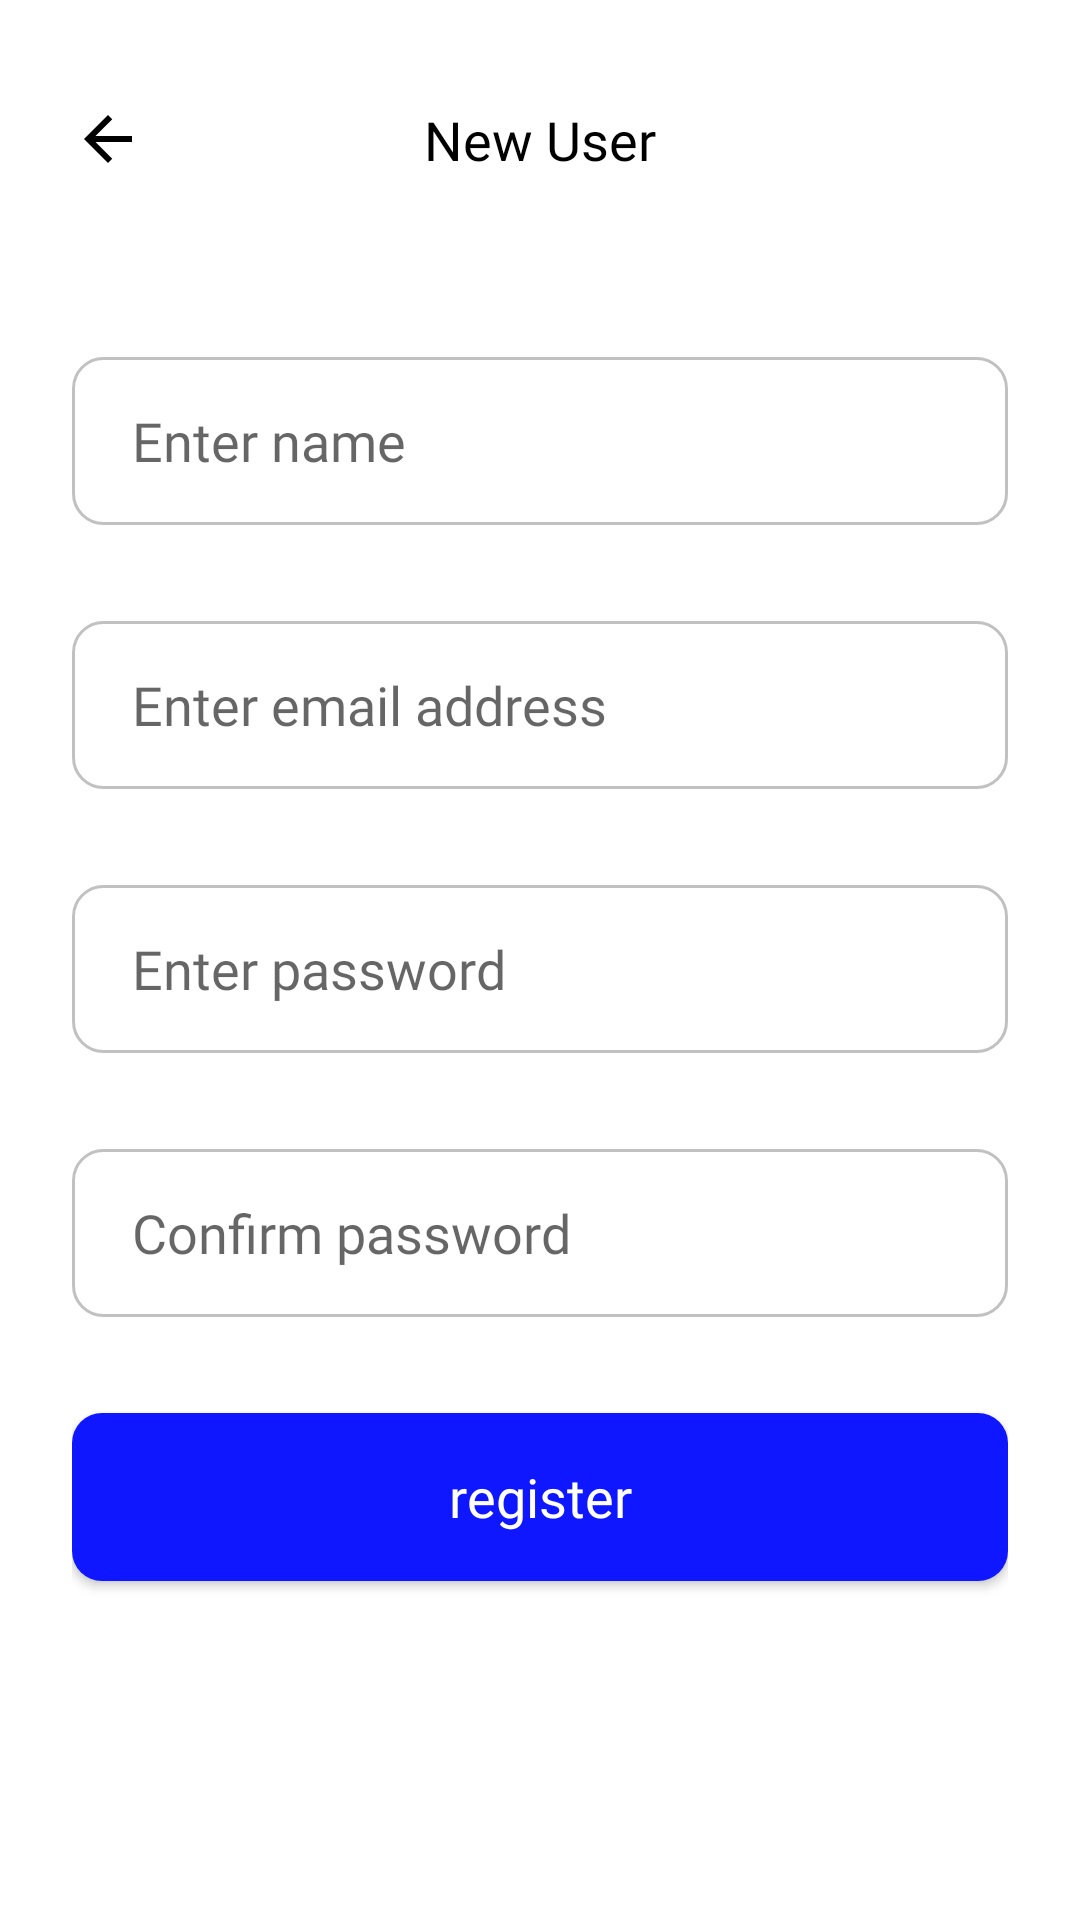

Screen size 1080px x 1920px. Icon name, then its box in pixels as (x1, y1, x2, y2):
arrow back: (84, 115, 132, 163)
